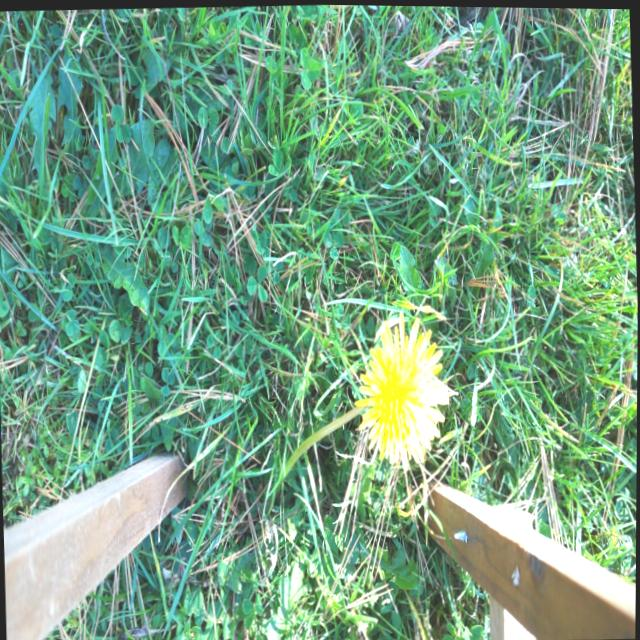base: (270, 463, 291, 497)
